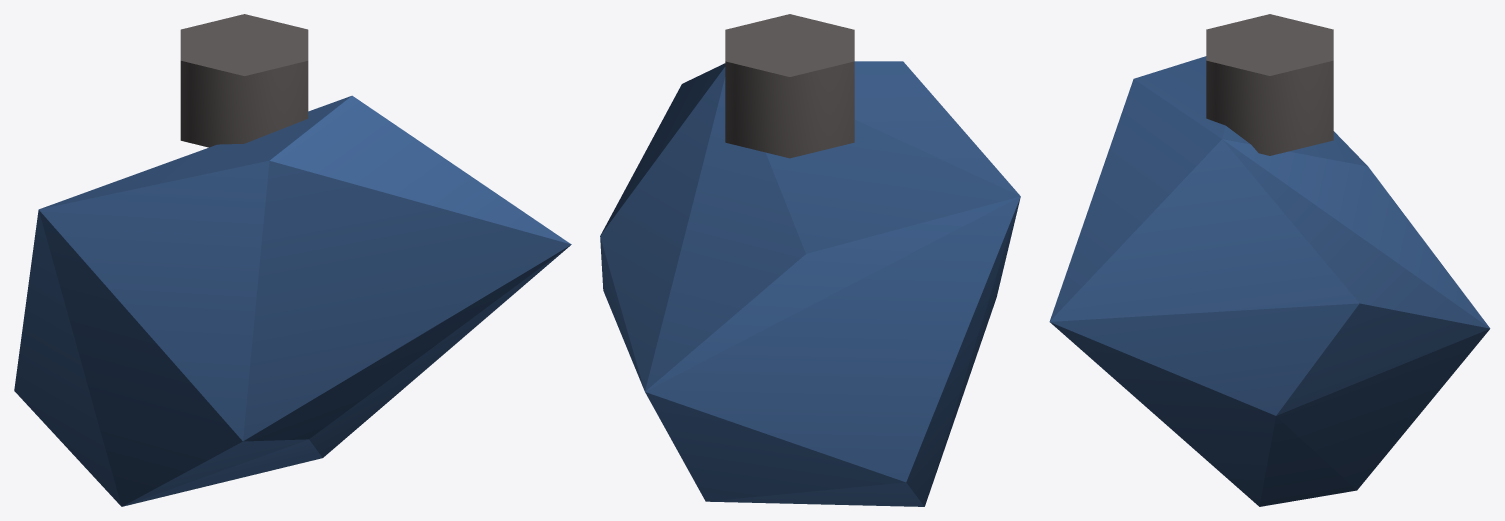
File: defender-capsule.glb
The picture shows the model from 3 angles, left to right: view 1: azimuth 30°, elevation 25°; view 2: azimuth 150°, elevation 25°; view 3: azimuth 270°, elevation 25°; orthographic projection.
Parts seen in each view (by area): view 1: defender-capsule; view 2: defender-capsule; view 3: defender-capsule.
Boxes of the visible parts, box(x1,y1,x2,y2) form: defender-capsule: box(14, 14, 571, 506); defender-capsule: box(600, 14, 1020, 506); defender-capsule: box(1049, 14, 1490, 506).
Size of the model in its own units: 0.17 by 0.16 by 0.15.
